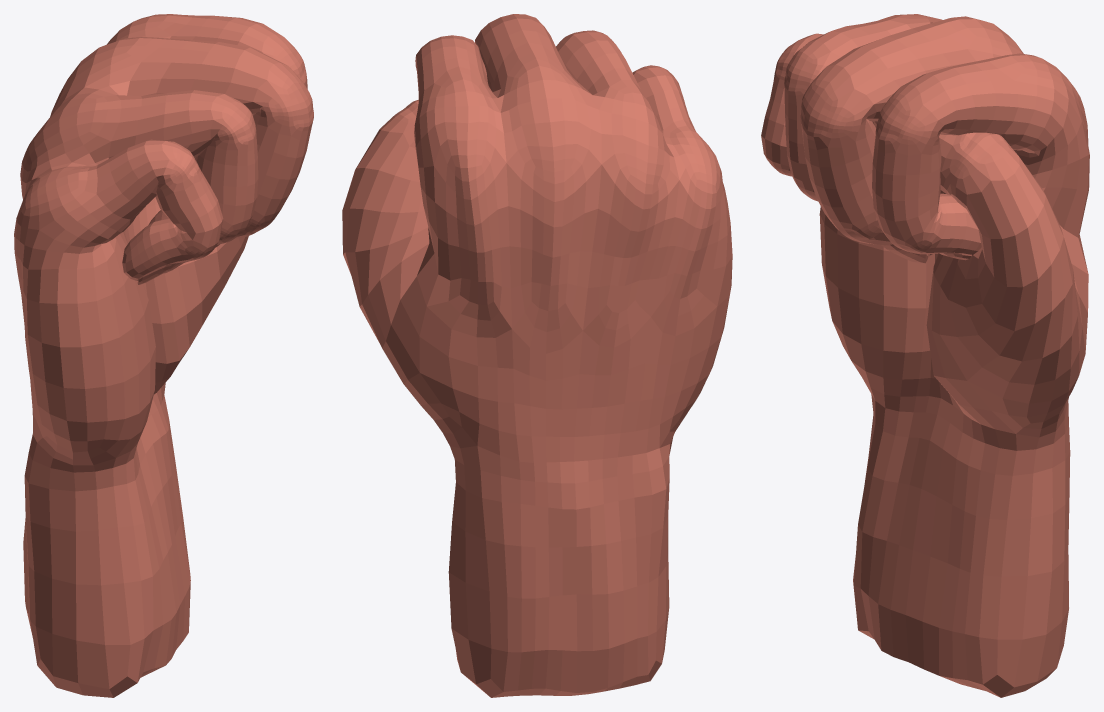
File: meen.glb
3 views of the same model, side by side, from view 1: azimuth 30°, elevation 25°; view 2: azimuth 150°, elevation 25°; view 3: azimuth 270°, elevation 25° (orthographic). The views are drawn at different scales.
Parts seen in each view (by area): view 1: ZBrushPolyMesh3D; view 2: ZBrushPolyMesh3D; view 3: ZBrushPolyMesh3D.
Boxes of the visible parts, bbox=[...] form: ZBrushPolyMesh3D: bbox=[14, 14, 313, 697]; ZBrushPolyMesh3D: bbox=[342, 14, 732, 697]; ZBrushPolyMesh3D: bbox=[761, 14, 1089, 697].
Bounding box in the file's own units: 2 × 3.81 × 1.71.
